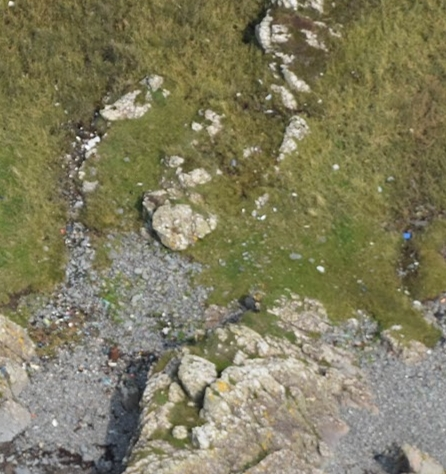white_in_green: (386, 218, 425, 251)
